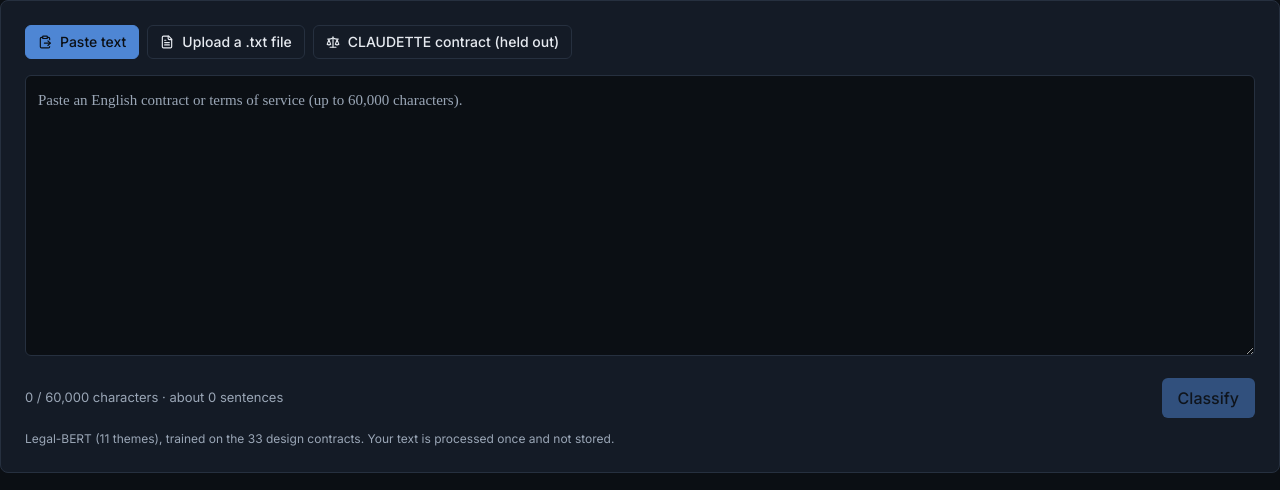
it: DemoPanel › keeps Classify disabled until English text is pasted
Expected: the button with test id "demo-classify" is disabled, [1162, 378, 1255, 418]
Replace the text in the text box with test id "demo-textarea" with "Ceci est du texte en français seulement.": coordinates (640, 216) [25, 75, 1255, 356]
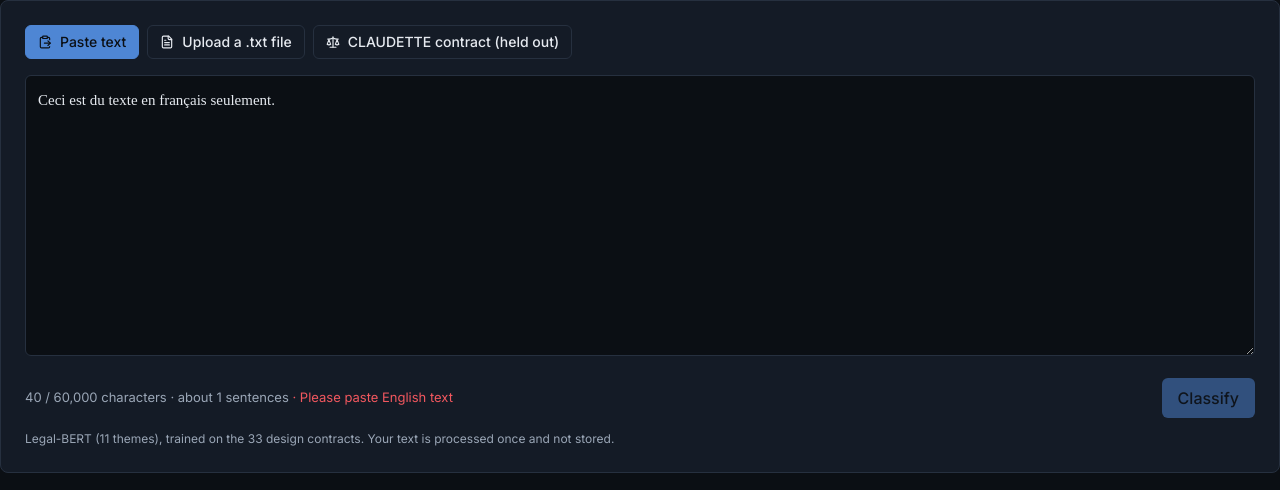
Expected: the button with test id "demo-classify" is disabled, [1162, 378, 1255, 418]
Now the text "· Please paste English text" is shown, box [289, 389, 453, 405]
Replace the text in the text box with test id "demo-textarea" with "We may terminate your account at any time without notice. All fees are due within thirty days and are not refundable.": coordinates (640, 216) [25, 75, 1255, 356]
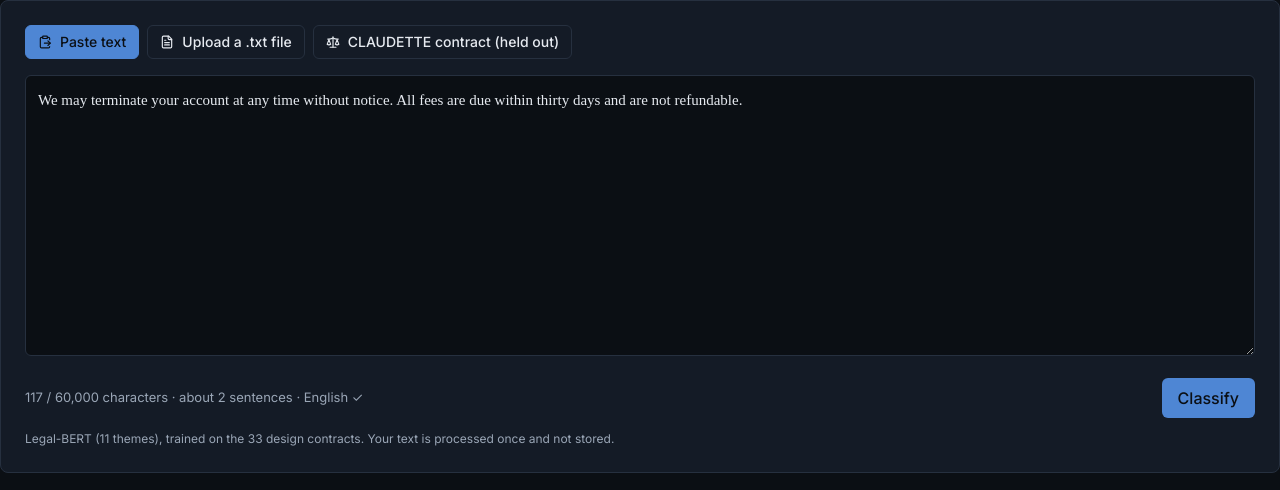
Now the button with test id "demo-classify" is enabled, box [1162, 378, 1255, 418]
Now the text "117 / 60,000 characters · about 2 sentences · English ✓" is shown, box [25, 388, 363, 408]
